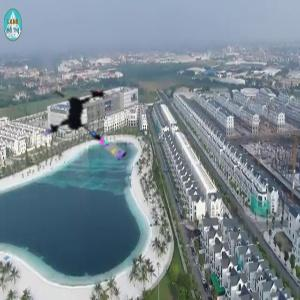drone: (41, 67, 143, 169)
